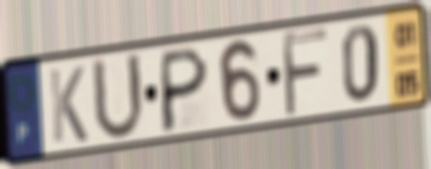0: (340, 22, 380, 107)
6: (216, 36, 263, 126)
F: (279, 25, 331, 121)
K: (46, 64, 90, 147)
P: (158, 43, 211, 136)
U: (89, 51, 147, 145)
